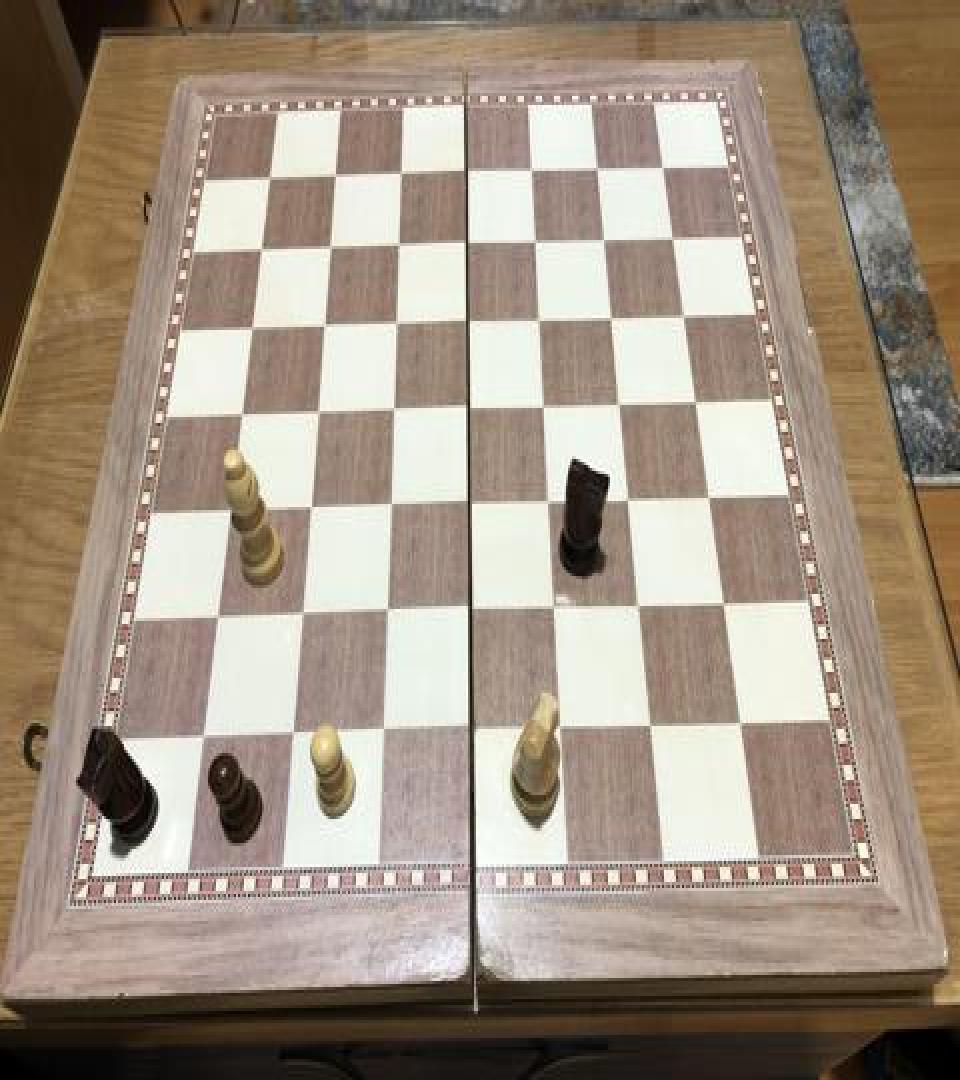xcorner: (544, 595, 568, 632), (289, 601, 313, 638), (640, 712, 664, 749), (370, 718, 394, 755), (652, 153, 676, 189), (587, 153, 611, 189), (521, 154, 545, 190), (455, 156, 479, 192), (389, 158, 413, 194), (322, 159, 346, 195), (256, 160, 280, 196), (662, 224, 686, 260), (593, 225, 617, 261), (524, 226, 548, 262), (455, 228, 479, 264), (386, 230, 410, 266), (317, 231, 341, 267), (248, 232, 272, 268), (673, 302, 697, 338), (601, 304, 625, 340), (529, 306, 553, 342), (456, 308, 480, 344), (384, 309, 408, 345), (311, 310, 335, 346), (239, 312, 263, 348), (685, 388, 709, 424), (609, 390, 633, 426), (533, 392, 557, 428), (457, 394, 481, 430), (381, 396, 405, 432), (305, 398, 329, 434), (228, 399, 252, 435), (698, 484, 722, 520), (618, 486, 642, 522), (538, 488, 562, 524), (458, 490, 482, 526), (378, 492, 402, 528), (297, 494, 321, 530), (217, 495, 241, 531), (713, 591, 737, 627), (628, 592, 652, 628), (459, 597, 483, 633), (374, 598, 398, 634), (204, 603, 228, 639), (729, 710, 753, 746), (550, 714, 574, 750), (460, 717, 484, 753), (280, 722, 304, 758), (190, 723, 214, 759)
